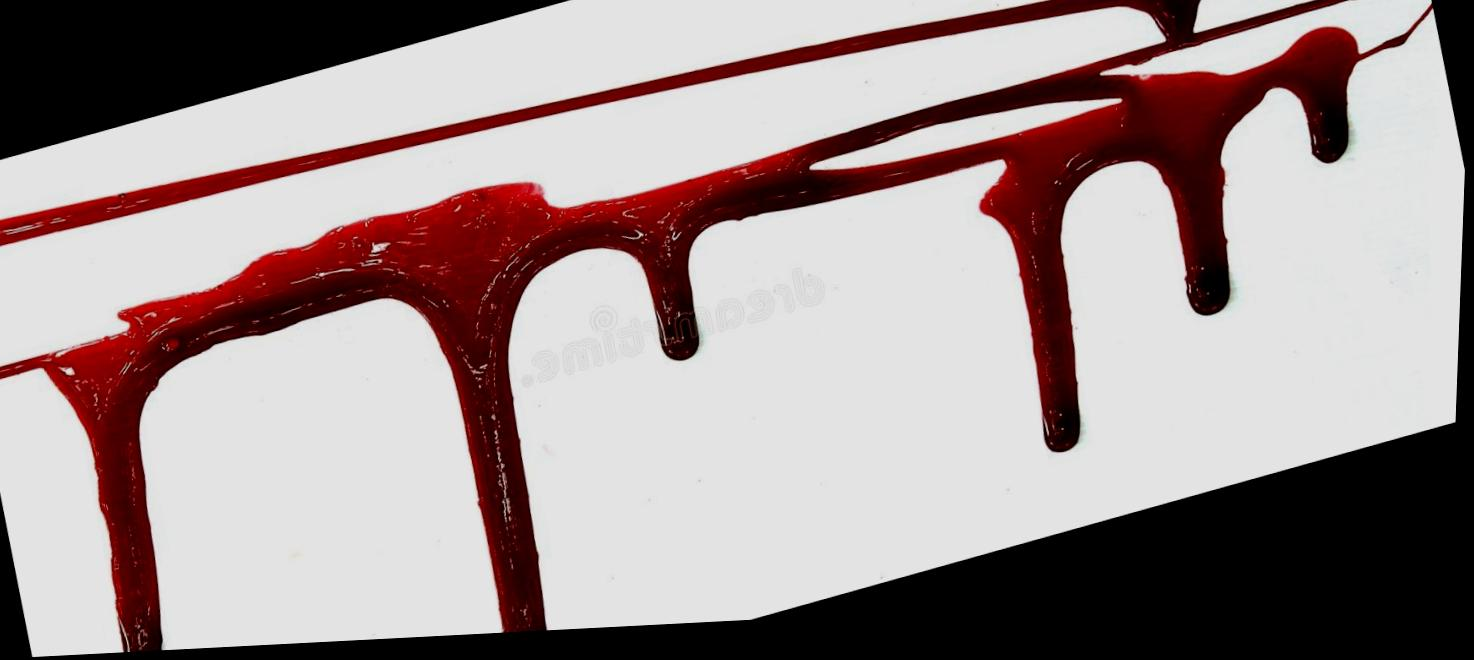Fire: (0, 0, 1434, 654)
